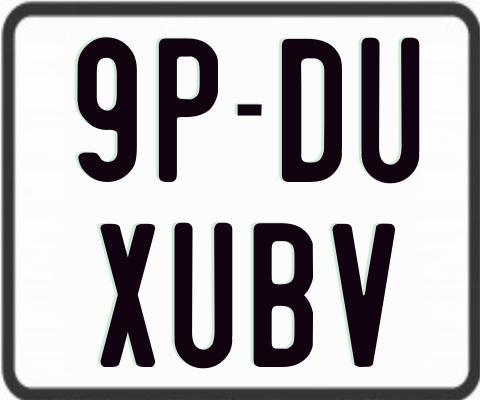9: (76, 37, 140, 182)
B: (253, 223, 318, 368)
D: (280, 37, 342, 184)
P: (157, 38, 222, 184)
U: (171, 220, 234, 365), (358, 35, 416, 181)
V: (331, 224, 400, 367)
X: (100, 223, 158, 370)
